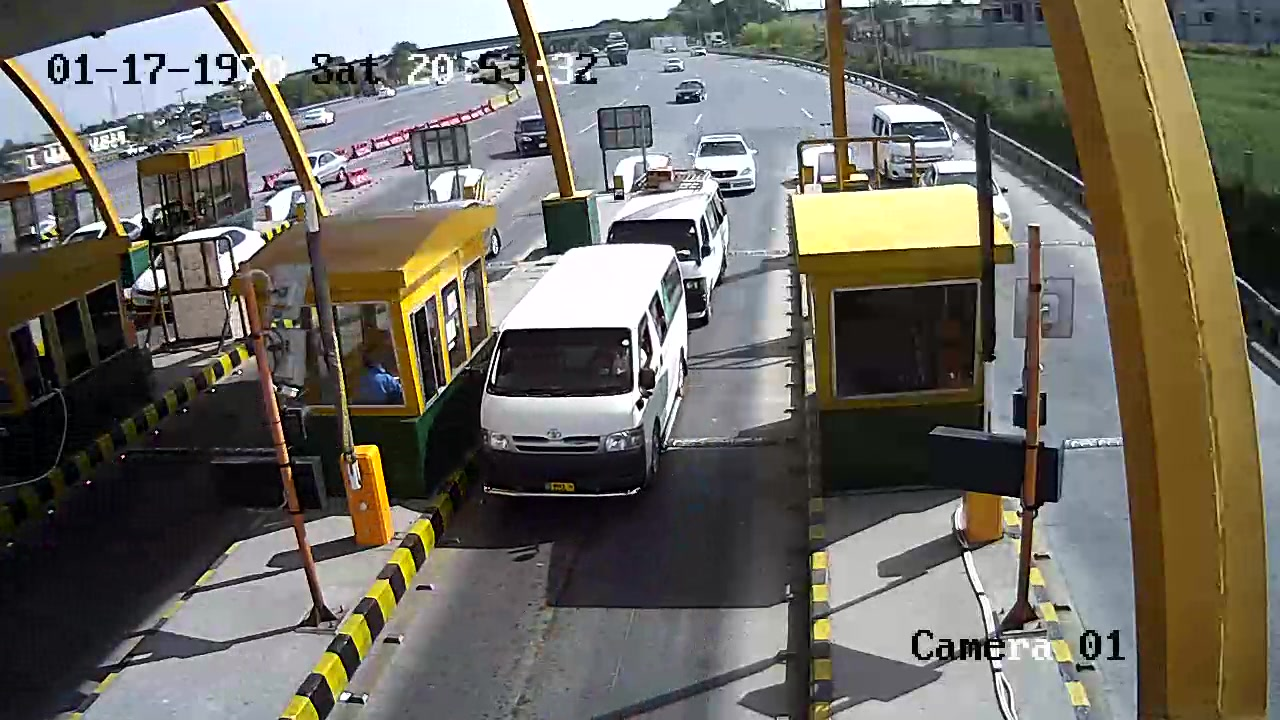F3: (483, 236, 690, 512)
